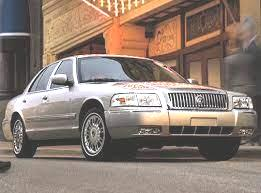Mercury: (192, 92, 215, 110)
